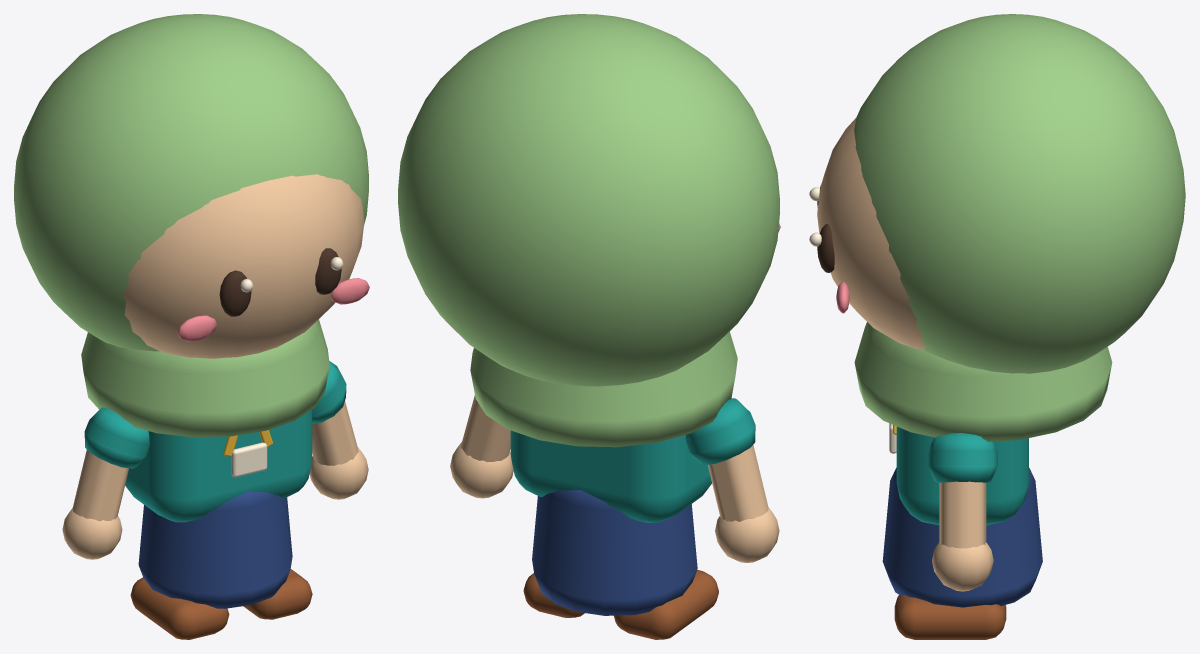
Rendered from crowd_student_b.glb.
3 renders of one model, left to right at view 1: azimuth 30°, elevation 25°; view 2: azimuth 150°, elevation 25°; view 3: azimuth 270°, elevation 25°, orthographic. The views are drawn at different scales.
Visible parts, largest first — view 1: Tudung.002, Head.009, TudungDrape.002, Skirt.002, Torso.008, Shoe-1.008, Sleeve-1.008, Arm-1.008, Hand-1.008, Arm1.008, Hand1.008, Shoe1.009 (+6 smaller); view 2: Tudung.002, TudungDrape.002, Skirt.002, Torso.008, Arm-1.008, Shoe-1.008, Sleeve-1.008, Hand-1.008, Hand1.008, Arm1.008, Shoe1.009; view 3: Tudung.002, TudungDrape.002, Head.009, Skirt.002, Torso.008, Shoe1.009, Arm1.008, Sleeve1.008, Hand1.008, Eye1.008.
Part boxes in pixels (x1,y1,x2,y2): Tudung.002: [14, 14, 368, 351]; Head.009: [123, 174, 364, 358]; TudungDrape.002: [81, 319, 329, 437]; Skirt.002: [138, 491, 292, 608]; Torso.008: [125, 410, 312, 522]; Shoe-1.008: [130, 577, 229, 639]; Sleeve-1.008: [84, 407, 149, 468]; Arm-1.008: [72, 450, 128, 521]; Hand-1.008: [62, 508, 122, 559]; Arm1.008: [312, 401, 358, 465]; Hand1.008: [309, 447, 368, 499]; Shoe1.009: [243, 569, 312, 619]; Tudung.002: [398, 14, 779, 386]; TudungDrape.002: [470, 331, 737, 447]; Skirt.002: [532, 490, 697, 615]; Torso.008: [510, 430, 711, 522]; Arm-1.008: [708, 445, 768, 521]; Shoe-1.008: [614, 570, 718, 639]; Sleeve-1.008: [685, 398, 755, 464]; Hand-1.008: [715, 508, 779, 562]; Hand1.008: [450, 442, 513, 498]; Arm1.008: [461, 395, 510, 462]; Shoe1.009: [523, 573, 584, 617]; Tudung.002: [854, 14, 1185, 373]; TudungDrape.002: [854, 322, 1112, 441]; Head.009: [817, 118, 925, 349]; Skirt.002: [882, 467, 1042, 607]; Torso.008: [896, 426, 1028, 525]; Shoe1.009: [894, 595, 1006, 639]; Arm1.008: [939, 481, 986, 548]; Sleeve1.008: [927, 433, 997, 482]; Hand1.008: [932, 542, 993, 591]; Eye1.008: [817, 224, 834, 272].
Size of the model in its own units: 0.9072 by 1.55 by 0.912.
